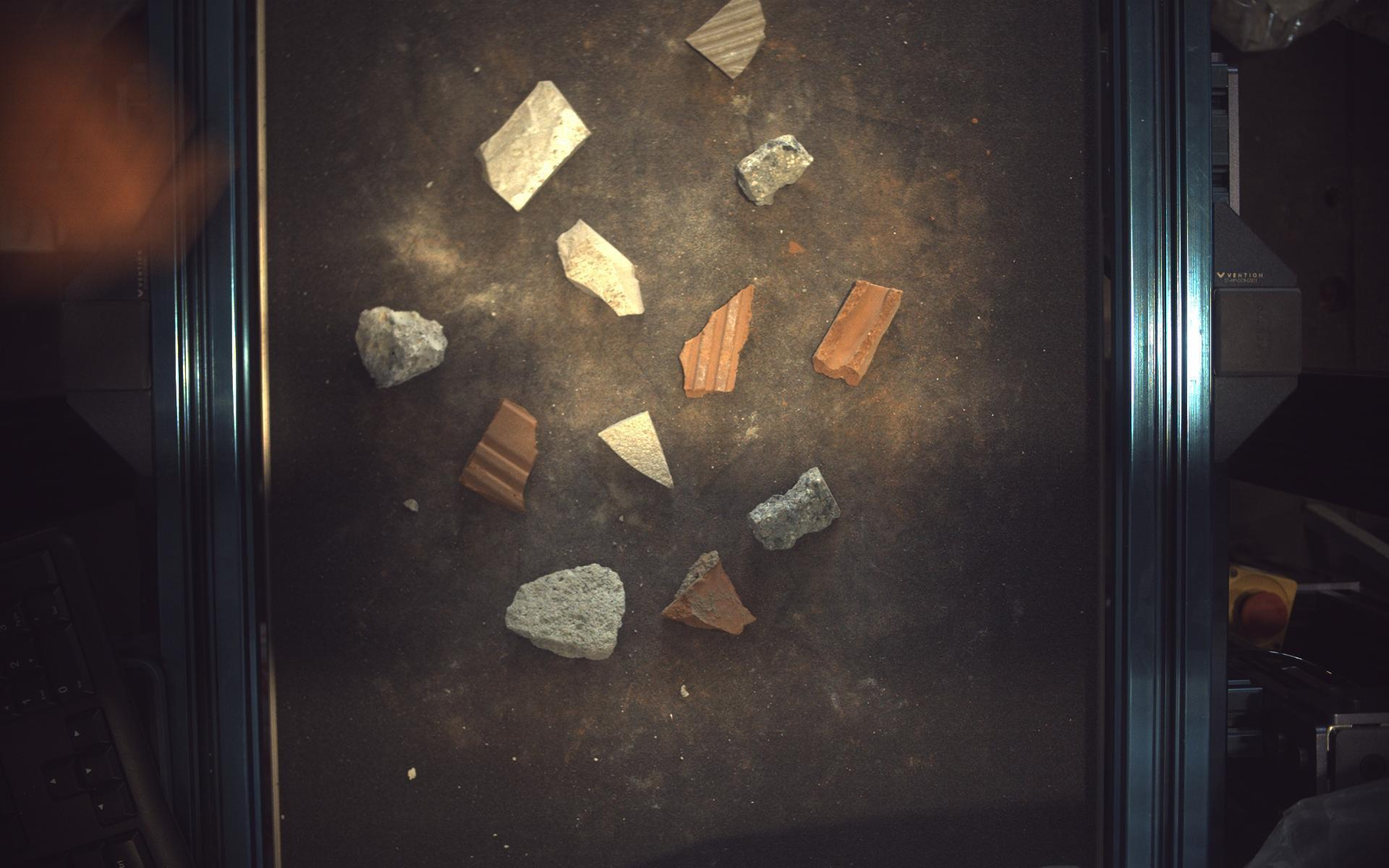brick: (814, 279, 904, 386), (460, 399, 538, 513), (681, 284, 757, 397), (663, 551, 756, 636)
concrete: (506, 563, 626, 661), (749, 467, 841, 550), (354, 306, 447, 388), (736, 134, 815, 205)
tile: (476, 80, 592, 210), (558, 220, 645, 316), (687, 1, 767, 77), (600, 412, 674, 488)
